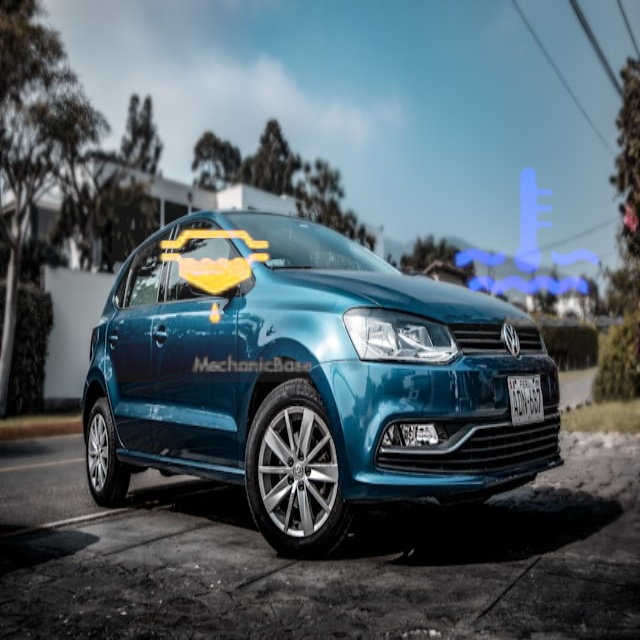symbol: (422, 126, 633, 337), (112, 174, 320, 382)
